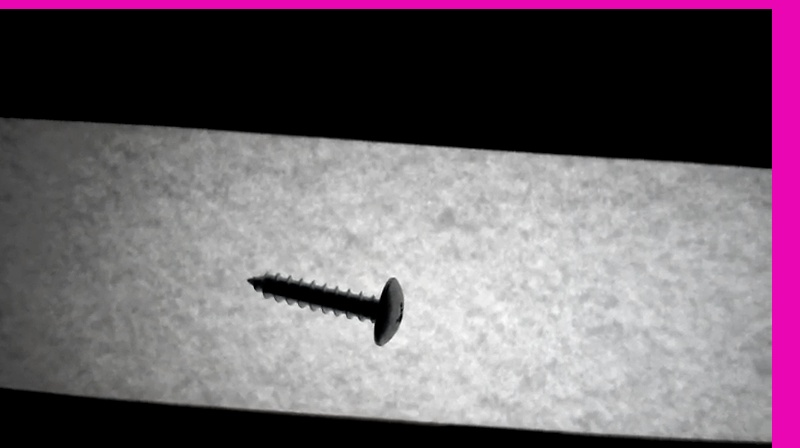S003: (243, 266, 407, 348)
